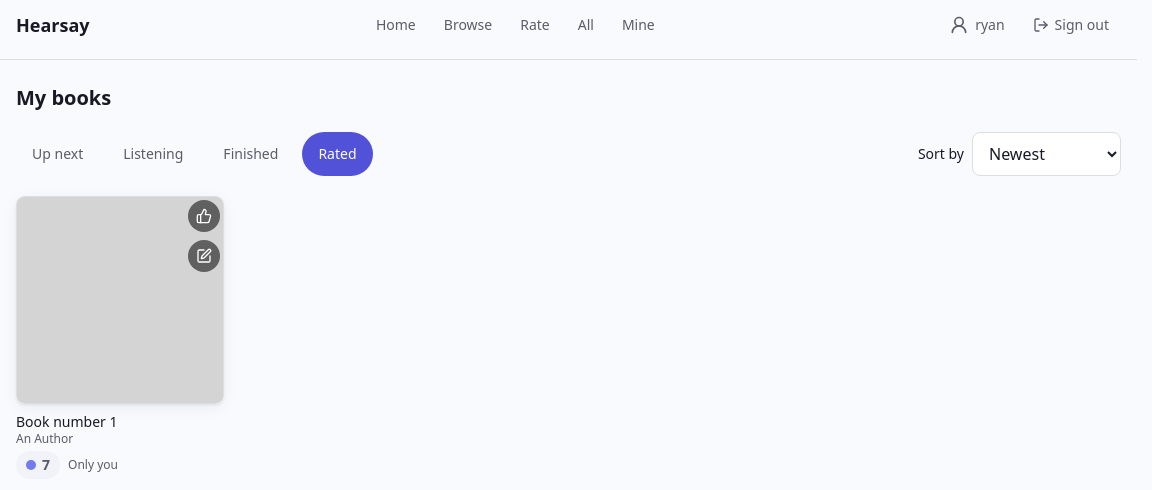
the my-ratings screen › flips a rating to recommended in place, keeping its score and note
Expected: the text "Only you" is shown, x1=68 y1=457 x2=118 y2=473
Click the button named "Recommend Book number 1" at (204, 216), box x1=184 y1=196 x2=224 y2=236
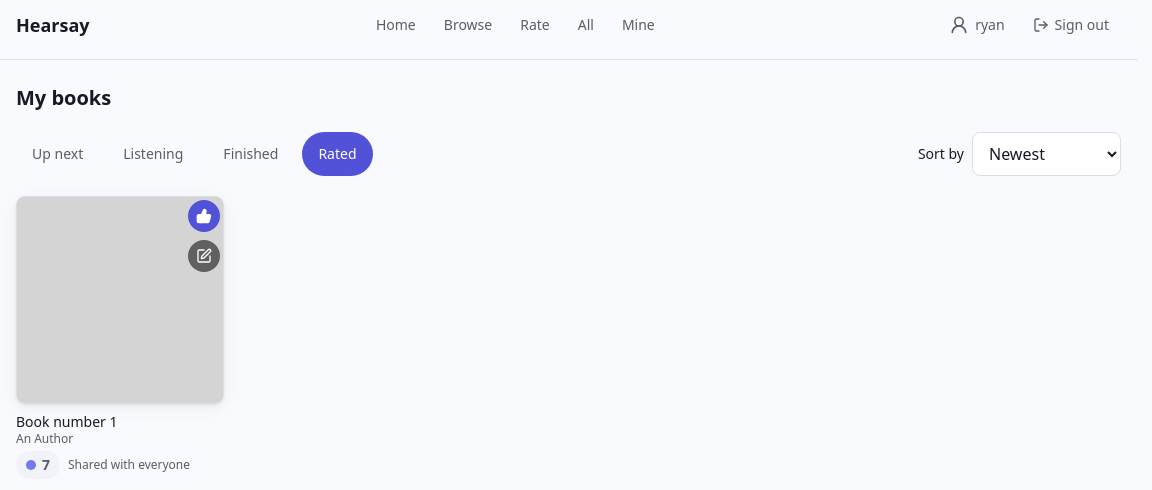
Expected: the text "Shared with everyone" is shown, x1=68 y1=457 x2=190 y2=473
